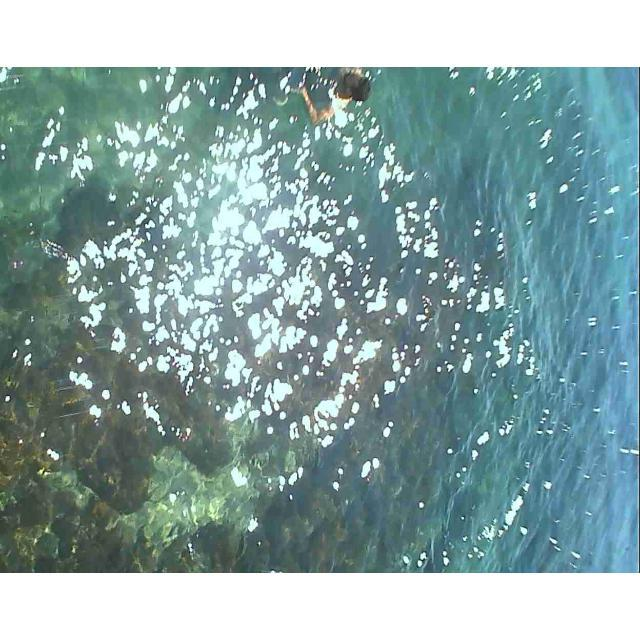human: (299, 67, 371, 131)
